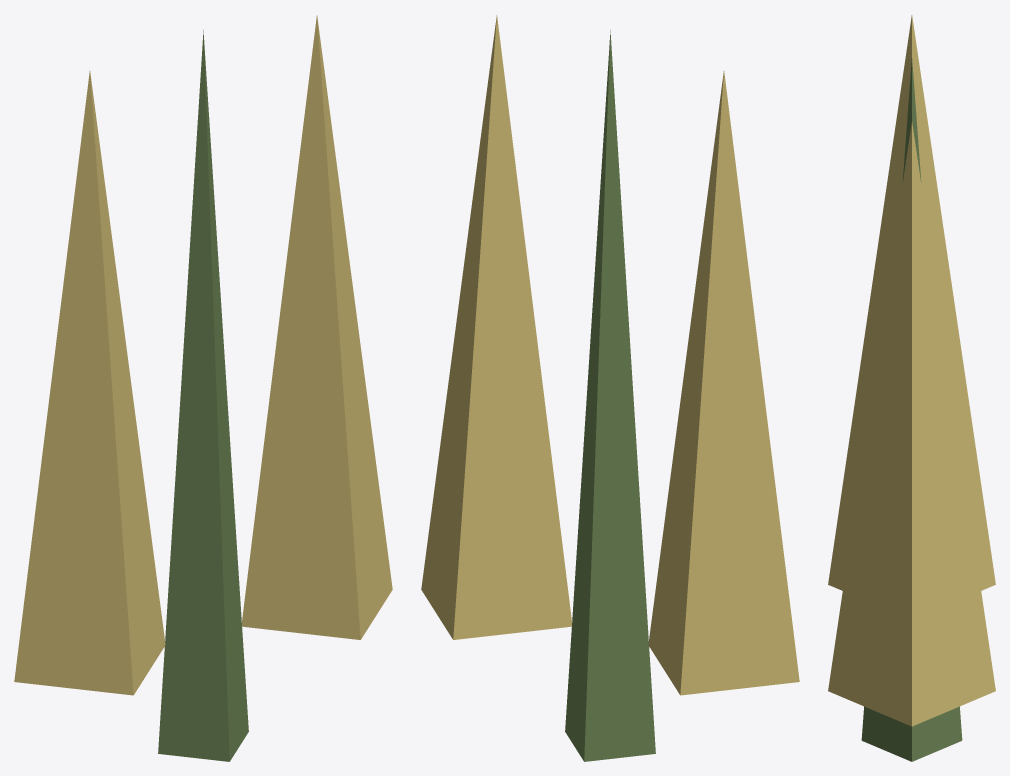
The model's file is prop_crop_3.glb.
The picture shows the model from 3 angles, left to right: view 1: azimuth 30°, elevation 25°; view 2: azimuth 150°, elevation 25°; view 3: azimuth 270°, elevation 25°; orthographic projection. The views are drawn at different scales.
Parts seen in each view (by area): view 1: prop_crop_3; view 2: prop_crop_3; view 3: prop_crop_3.
Part boxes in pixels (left/top/right/bottom): prop_crop_3: left=14, top=15, right=392, bottom=761; prop_crop_3: left=421, top=15, right=799, bottom=761; prop_crop_3: left=828, top=15, right=995, bottom=761.
Size of the model in its own units: 0.5 by 0.9 by 0.2.
1 material, 1 textured.
